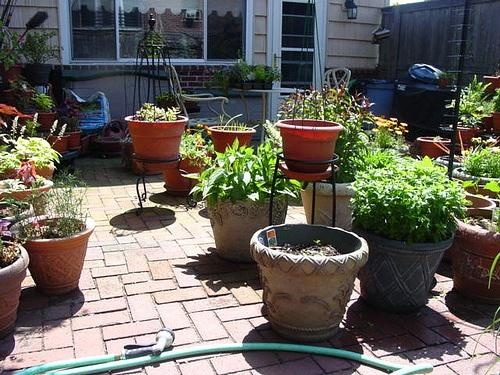pottedplant: (355, 151, 463, 316), (277, 88, 369, 235), (19, 170, 102, 302), (203, 143, 293, 262), (459, 178, 500, 302), (1, 117, 68, 180), (125, 103, 184, 167), (1, 154, 64, 209), (163, 130, 214, 197), (1, 225, 26, 345), (450, 142, 500, 199), (454, 78, 495, 145), (26, 29, 62, 90), (2, 28, 30, 86), (210, 116, 256, 150), (229, 62, 280, 89), (157, 88, 204, 114), (65, 100, 87, 150), (47, 117, 72, 157), (33, 94, 56, 134)
